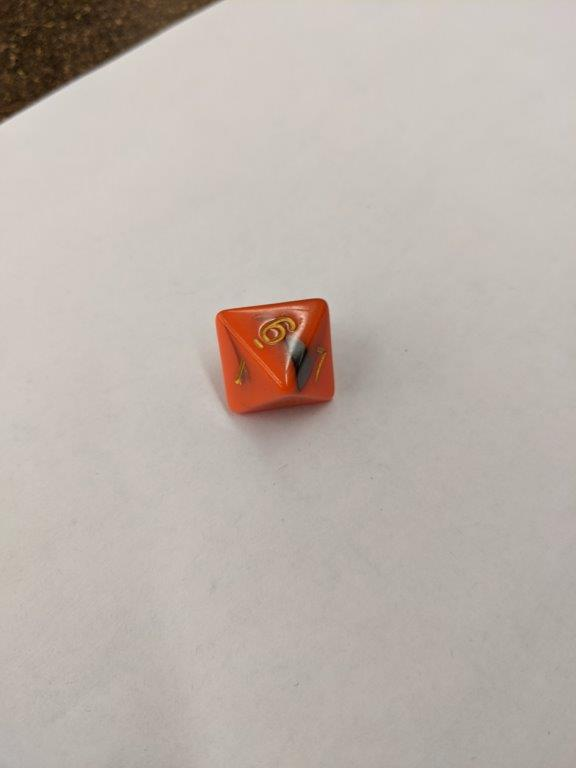d8-6: (212, 294, 340, 417)
